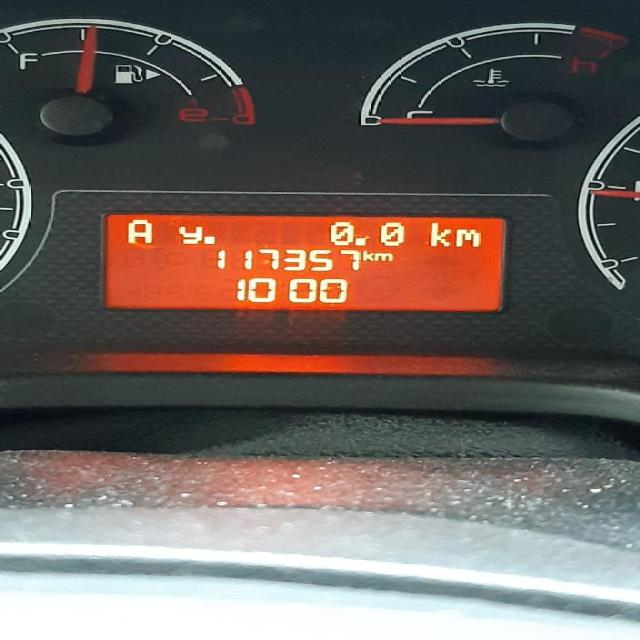odometer: (92, 207, 510, 316)
